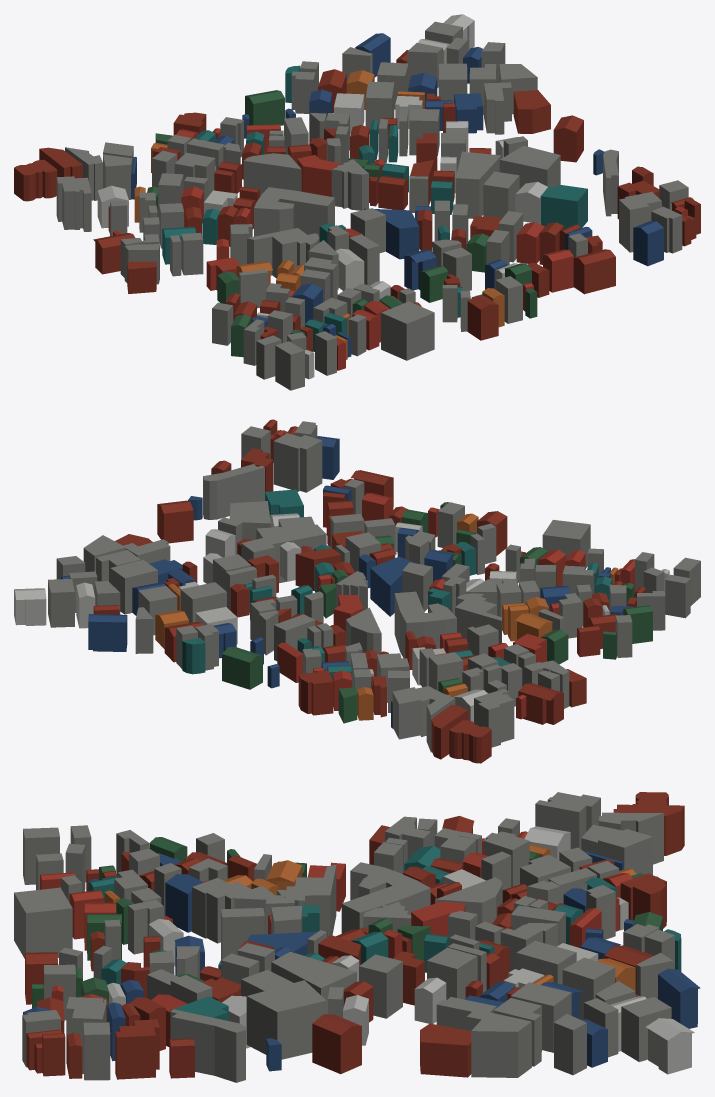
The model's file is near-17-109444-59472.fc410a77.glb.
3 views of the same model, one above another, from view 1: azimuth 30°, elevation 25°; view 2: azimuth 150°, elevation 25°; view 3: azimuth 270°, elevation 25° (orthographic). The views are drawn at different scales.
Bounding box in the file's own units: 315 × 62.09 × 312.
